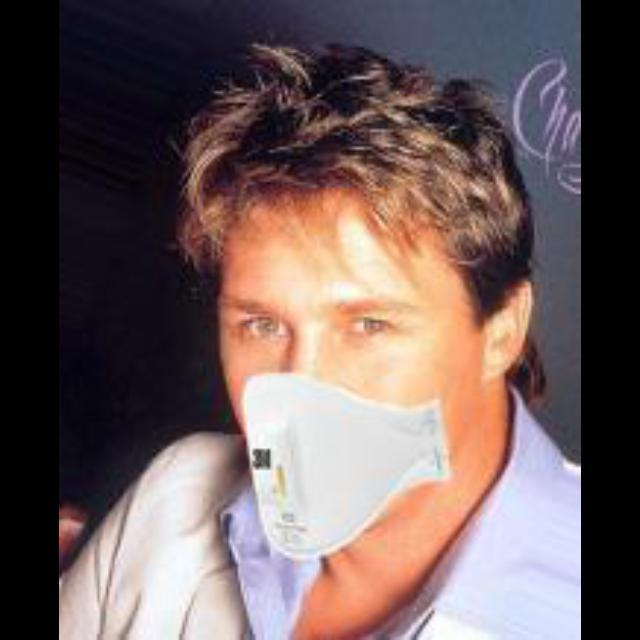suspicion: (207, 187, 527, 598)
